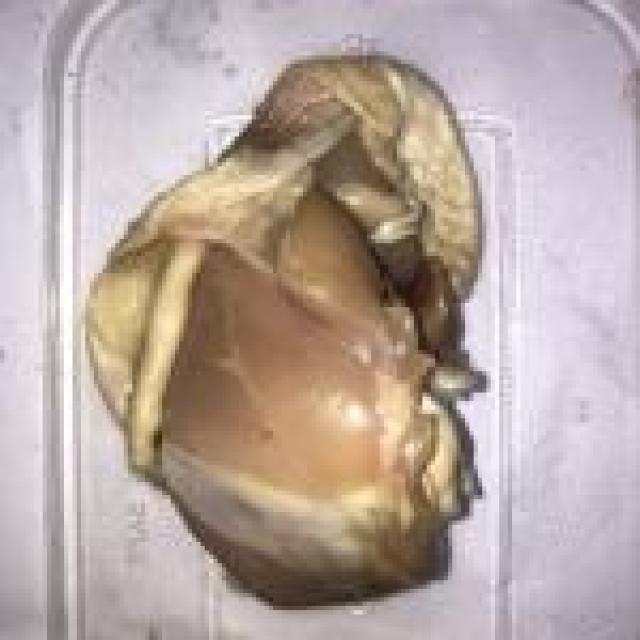breast: (71, 46, 503, 588)
